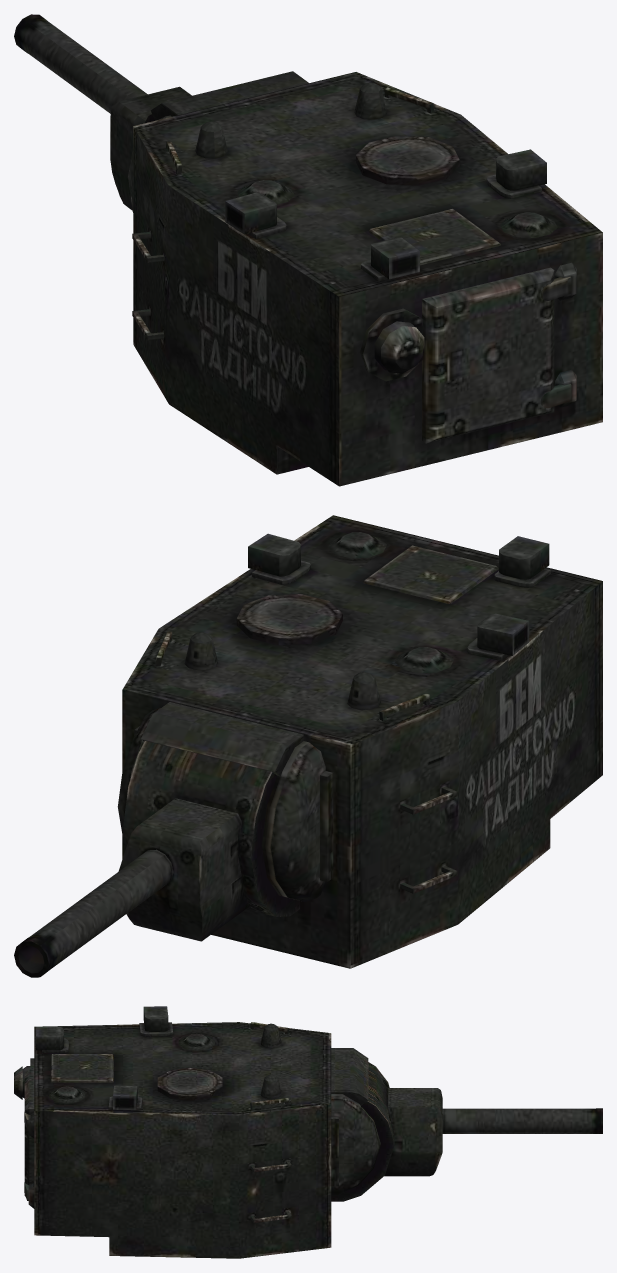
Rendered from tank_hezi_up.FBX.
The picture shows the model from 3 angles, top to bottom: view 1: azimuth 30°, elevation 25°; view 2: azimuth 150°, elevation 25°; view 3: azimuth 270°, elevation 25°; orthographic projection. The views are drawn at different scales.
Visible parts, largest first — view 1: LOD01_kv26; view 2: LOD01_kv26; view 3: LOD01_kv26.
Part boxes in pixels (left/top/right/bottom): LOD01_kv26: left=14, top=14, right=602, bottom=486; LOD01_kv26: left=14, top=515, right=602, bottom=977; LOD01_kv26: left=14, top=1006, right=602, bottom=1258.
Size of the model in its own units: 19.22 by 14.59 by 47.97.
Materials: 1 (1 with a texture image).
